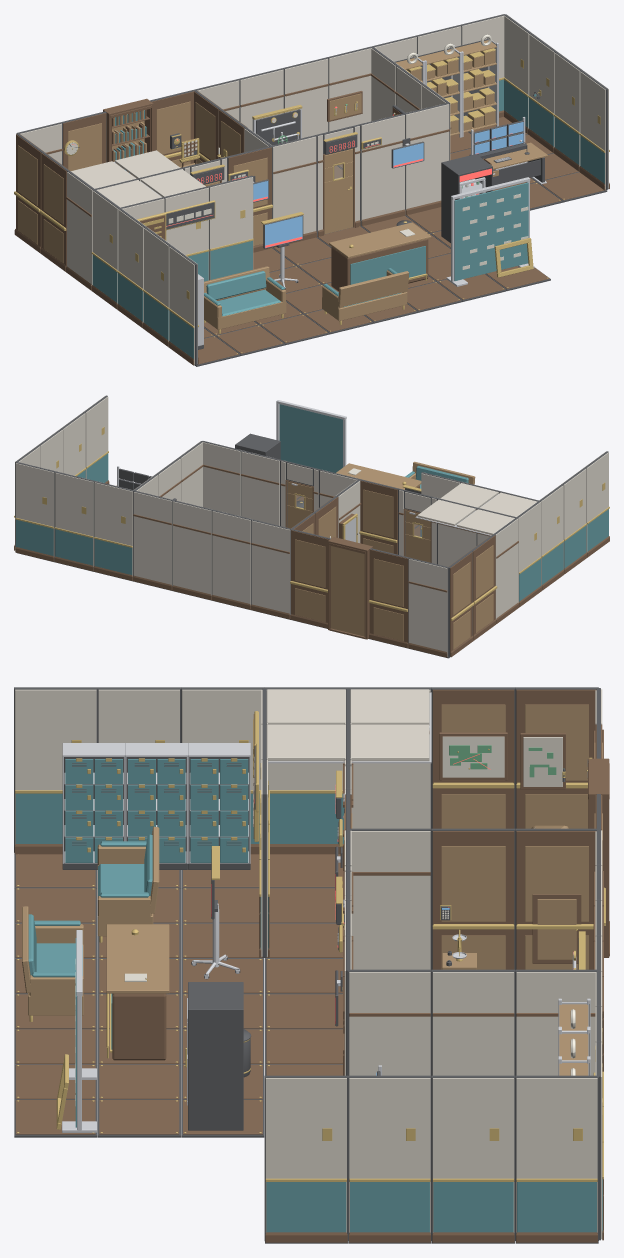
The model's file is escape-room-and-puzzle-venue-escape-room-f18faa23-starter-scene__35814.glb.
3 views of the same model, one above another, from view 1: azimuth 30°, elevation 25°; view 2: azimuth 150°, elevation 25°; view 3: azimuth 270°, elevation 25° (orthographic). The views are drawn at different scales.
Visible parts, largest first — view 1: 152-photo-backdrop-with-frame-prop/1, 088-puzzle-room-wall-module/1, 089-puzzle-room-wall-module/1, 086-puzzle-room-wall-module/1, 147-waiting-sofa/0, 095-corridor-wall-module/1, 084-puzzle-room-wall-module/1, 078-puzzle-room-wall-module/1, 085-puzzle-room-wall-module/1, 087-puzzle-room-door-module/door/timber, 146-waiting-sofa/2, 142-prop-store-shelving/2 (+86 smaller); view 2: 152-photo-backdrop-with-frame-prop/1, 085-puzzle-room-wall-module/1, 082-puzzle-room-wall-module/1, 068-puzzle-room-wall-module/1, 084-puzzle-room-wall-module/1, 083-puzzle-room-wall-module/1, 070-false-bookcase-door/bookcase/timber, 088-puzzle-room-wall-module/1, 089-puzzle-room-wall-module/1, 102-corridor-wall-module/1, 100-corridor-wall-module/1, 101-corridor-wall-module/1 (+51 smaller); view 3: 081-puzzle-room-wall-module/1, 104-corridor-wall-module/1, 091-puzzle-room-wall-module/1, 153-drinks-vending-machine/0, 106-corridor-wall-module/1, 105-corridor-wall-module/1, 103-corridor-wall-module/1, 092-puzzle-room-wall-module/1, 099-corridor-wall-module/1, 080-puzzle-room-wall-module-panelled/2, 090-puzzle-room-wall-module/1, 078-puzzle-room-wall-module/1 (+79 smaller).
Part boxes in pixels (box(x1,y1,x2,y2)): 152-photo-backdrop-with-frame-prop/1: box(454, 182, 528, 280); 088-puzzle-room-wall-module/1: box(361, 115, 404, 224); 089-puzzle-room-wall-module/1: box(405, 104, 449, 213); 086-puzzle-room-wall-module/1: box(272, 136, 316, 233); 147-waiting-sofa/0: box(322, 270, 409, 321); 095-corridor-wall-module/1: box(209, 177, 253, 279); 084-puzzle-room-wall-module/1: box(284, 58, 328, 137); 078-puzzle-room-wall-module/1: box(67, 172, 92, 284); 085-puzzle-room-wall-module/1: box(329, 48, 371, 131); 087-puzzle-room-door-module/door/timber: box(324, 148, 353, 234); 146-waiting-sofa/2: box(204, 271, 284, 316); 142-prop-store-shelving/2: box(455, 40, 496, 132); 152-photo-backdrop-with-frame-prop/1: box(279, 404, 342, 472); 085-puzzle-room-wall-module/1: box(133, 492, 172, 585); 082-puzzle-room-wall-module/1: box(251, 520, 290, 614); 068-puzzle-room-wall-module/1: box(409, 559, 447, 656); 084-puzzle-room-wall-module/1: box(173, 501, 211, 595); 083-puzzle-room-wall-module/1: box(212, 511, 250, 604); 070-false-bookcase-door/bookcase/timber: box(331, 546, 364, 636); 088-puzzle-room-wall-module/1: box(241, 451, 279, 525); 089-puzzle-room-wall-module/1: box(203, 442, 240, 516); 102-corridor-wall-module/1: box(16, 463, 54, 556); 100-corridor-wall-module/1: box(94, 482, 132, 575); 101-corridor-wall-module/1: box(55, 472, 93, 566); 081-puzzle-room-wall-module/1: box(350, 831, 430, 969); 104-corridor-wall-module/1: box(432, 1078, 514, 1233); 091-puzzle-room-wall-module/1: box(432, 972, 514, 1075); 153-drinks-vending-machine/0: box(188, 982, 243, 1130); 106-corridor-wall-module/1: box(265, 1078, 346, 1232); 105-corridor-wall-module/1: box(349, 1078, 430, 1232); 103-corridor-wall-module/1: box(516, 1078, 597, 1232); 092-puzzle-room-wall-module/1: box(349, 972, 430, 1075); 099-corridor-wall-module/1: box(15, 689, 96, 844); 080-puzzle-room-wall-module-panelled/2: box(441, 846, 505, 969); 090-puzzle-room-wall-module/1: box(516, 972, 596, 1075); 078-puzzle-room-wall-module/1: box(351, 689, 430, 828).
Size of the model in its own units: 13.38 by 2.65 by 8.56.
